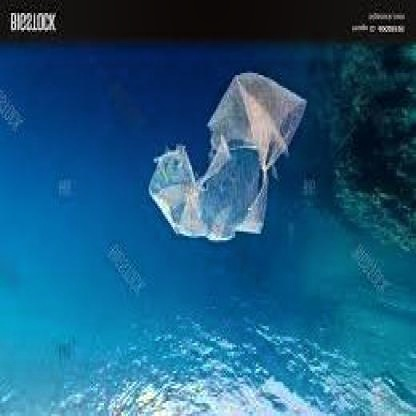pbag: (149, 71, 309, 244)
